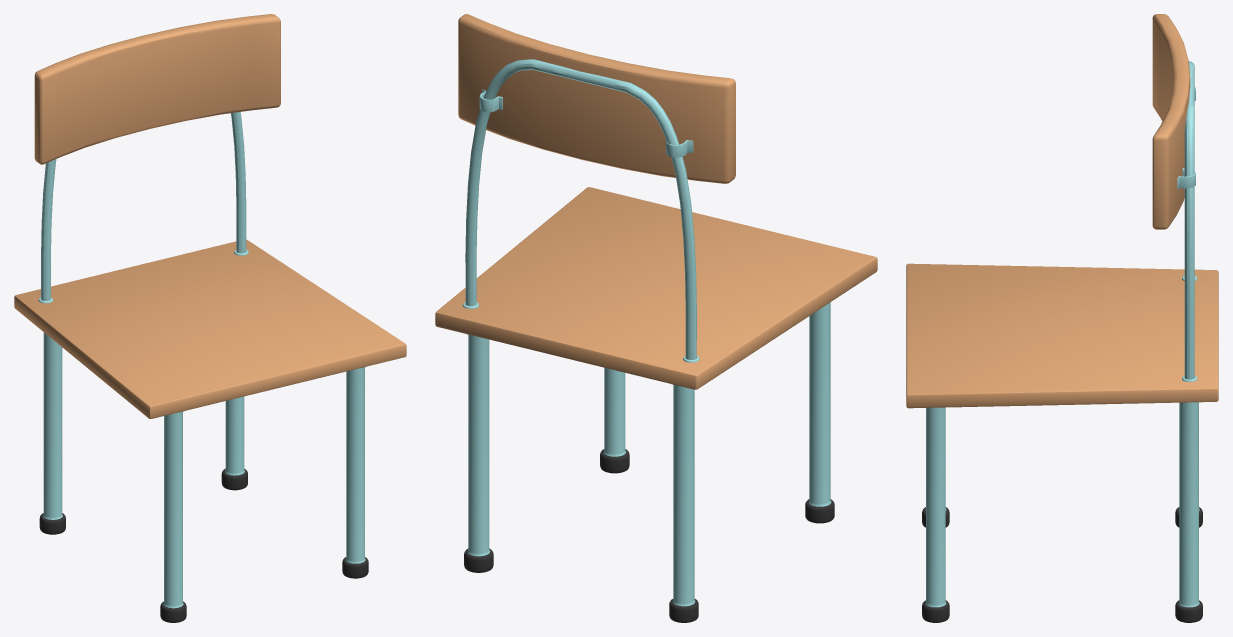
File: Chair.fbx
The picture shows the model from 3 angles, left to right: view 1: azimuth 30°, elevation 25°; view 2: azimuth 150°, elevation 25°; view 3: azimuth 270°, elevation 25°; orthographic projection. The views are drawn at different scales.
Visible parts, largest first — view 1: Cube; view 2: Cube; view 3: Cube.
Boxes of the visible parts, x1,y1,x2,y2 form: Cube: (14,14,406,622); Cube: (435,14,877,622); Cube: (906,14,1218,622).
Size of the model in its own units: 120 by 210 by 120.
